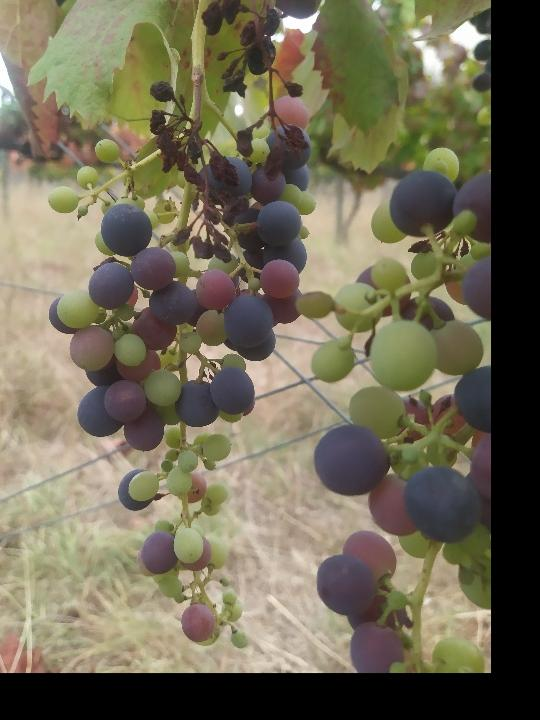grape: (47, 83, 318, 650), (199, 0, 333, 182)
